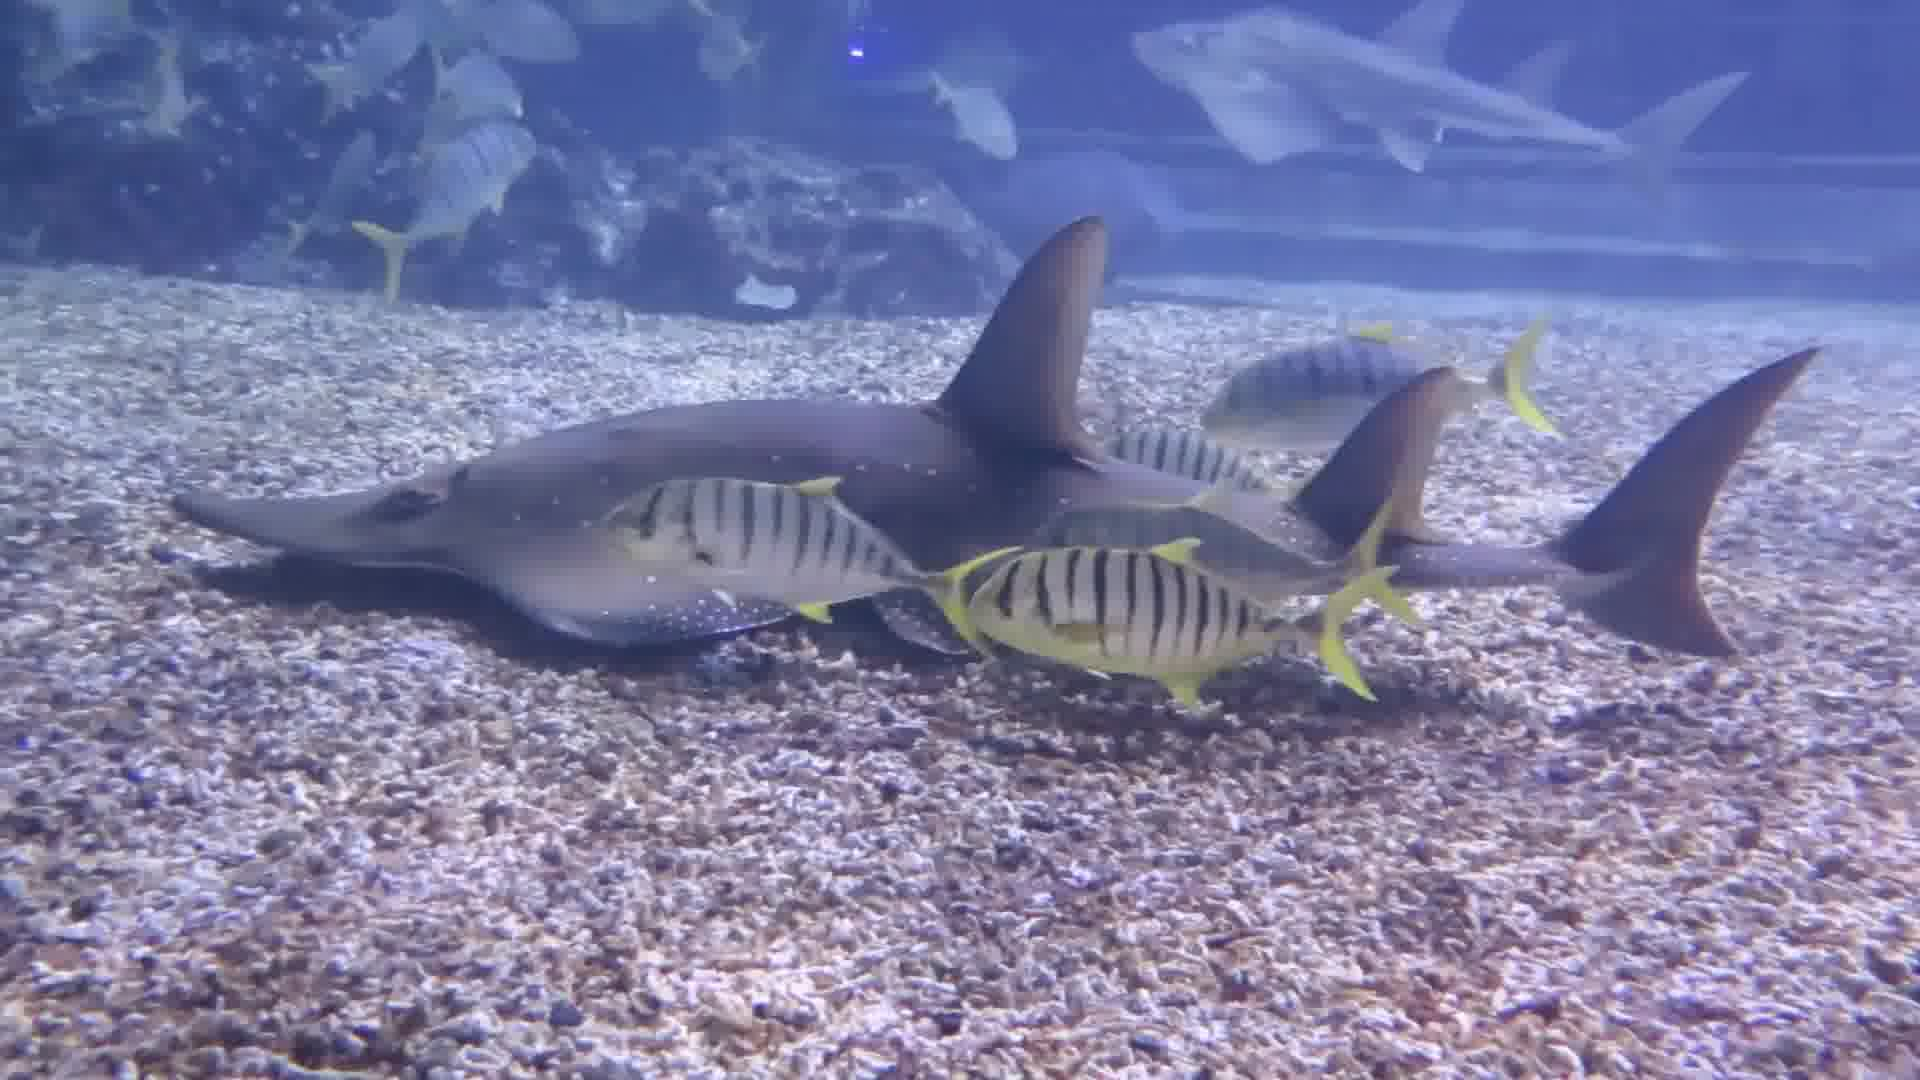Rhychobatus djiddensis: (196, 224, 1845, 702)
